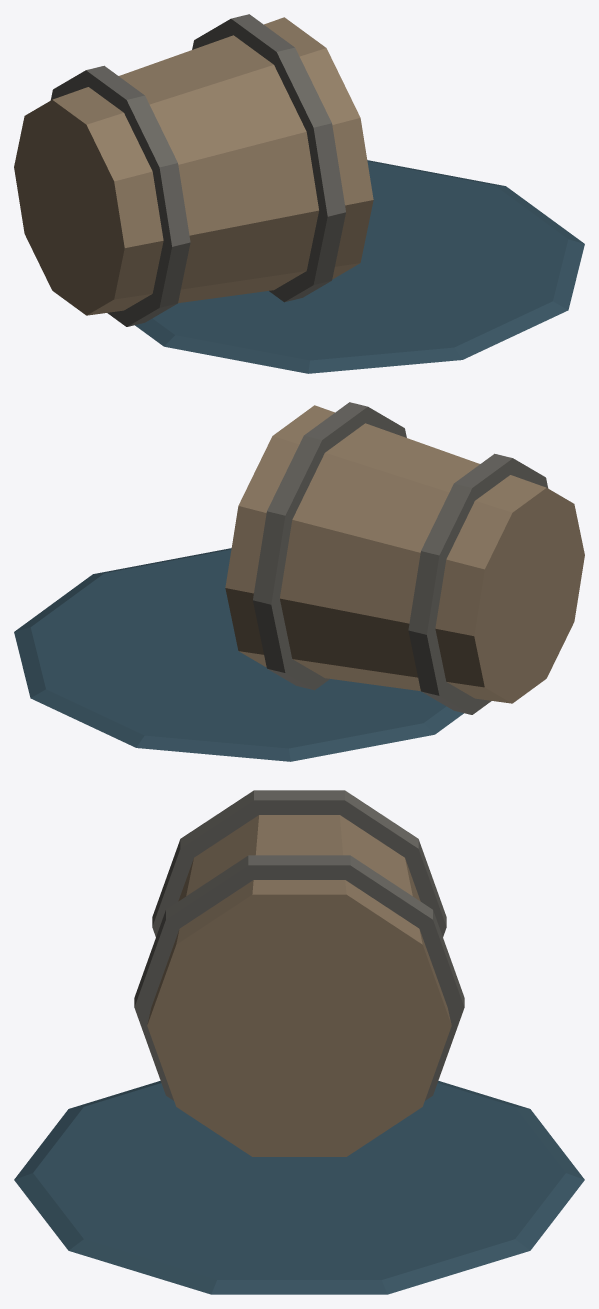
File: bucket_2.glb
3 views of the same model, one above another, from view 1: azimuth 30°, elevation 25°; view 2: azimuth 150°, elevation 25°; view 3: azimuth 270°, elevation 25° (orthographic). The views are drawn at different scales.
Parts seen in each view (by area): view 1: Bucket_2; view 2: Bucket_2; view 3: Bucket_2.
Boxes of the visible parts, x1,y1,x2,y2 form: Bucket_2: [14, 14, 584, 373]; Bucket_2: [14, 402, 584, 761]; Bucket_2: [14, 790, 584, 1294].
Bounding box in the file's own units: 0.6453 × 0.3299 × 0.6.
